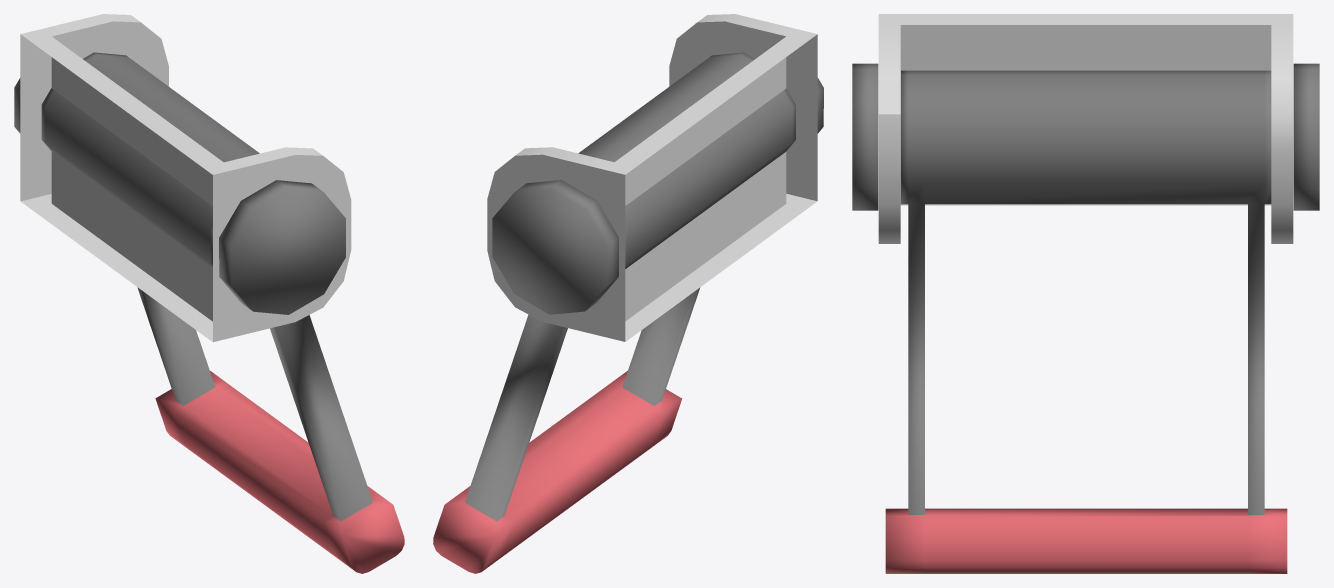
File: alavancaDesativar.fbx
The picture shows the model from 3 angles, left to right: view 1: azimuth 30°, elevation 25°; view 2: azimuth 150°, elevation 25°; view 3: azimuth 270°, elevation 25°; orthographic projection. The views are drawn at different scales.
Visible parts, largest first — view 1: Alavanca, Dobradiça; view 2: Alavanca, Dobradiça; view 3: Alavanca, Dobradiça.
Part boxes in pixels (x1,y1,x2,y2): Alavanca: (14,52,404,573); Dobradiça: (20,14,351,342); Alavanca: (433,52,823,573); Dobradiça: (487,14,817,341); Alavanca: (852,63,1319,573); Dobradiça: (878,14,1293,243).
Bounding box in the file's own units: 30.89 × 66.34 × 59.51.
